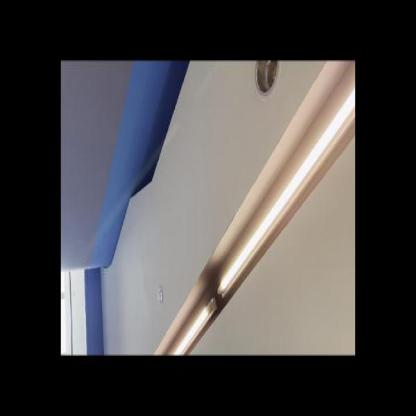light_on: (214, 85, 354, 308), (166, 299, 214, 355)
